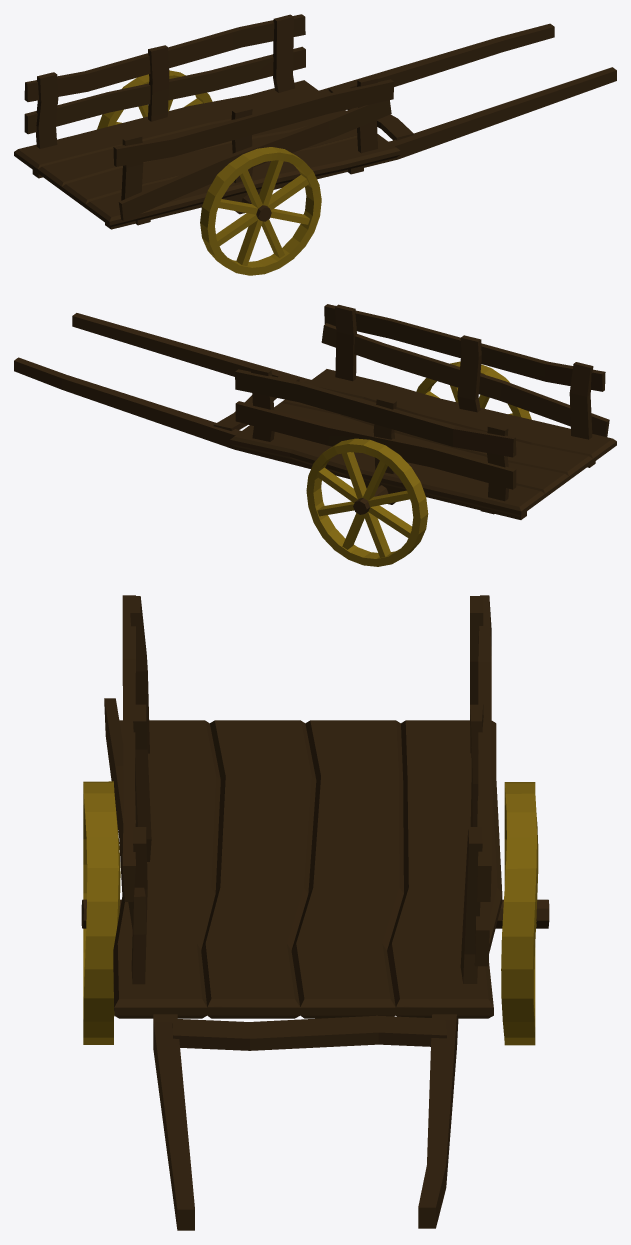
Rendered from atarabası.fbx.
The picture shows the model from 3 angles, top to bottom: view 1: azimuth 30°, elevation 25°; view 2: azimuth 150°, elevation 25°; view 3: azimuth 270°, elevation 25°; orthographic projection. The views are drawn at different scales.
Parts seen in each view (by area): view 1: PP_Horse_Cart_Used_02, PP_Horse_Cart_Used_02_Wheels; view 2: PP_Horse_Cart_Used_02, PP_Horse_Cart_Used_02_Wheels; view 3: PP_Horse_Cart_Used_02, PP_Horse_Cart_Used_02_Wheels.
Part boxes in pixels (left/top/right/bottom): PP_Horse_Cart_Used_02: left=14, top=14, right=616, bottom=229; PP_Horse_Cart_Used_02_Wheels: left=97, top=70, right=321, bottom=275; PP_Horse_Cart_Used_02: left=14, top=304, right=616, bottom=519; PP_Horse_Cart_Used_02_Wheels: left=306, top=361, right=531, bottom=566; PP_Horse_Cart_Used_02: left=81, top=595, right=549, bottom=1230; PP_Horse_Cart_Used_02_Wheels: left=83, top=781, right=538, bottom=1045.
Bounding box in the file's own units: 663 × 189 × 257.
